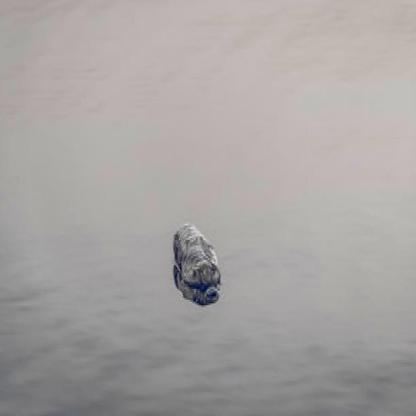plastic bottle: (174, 224, 221, 298)
